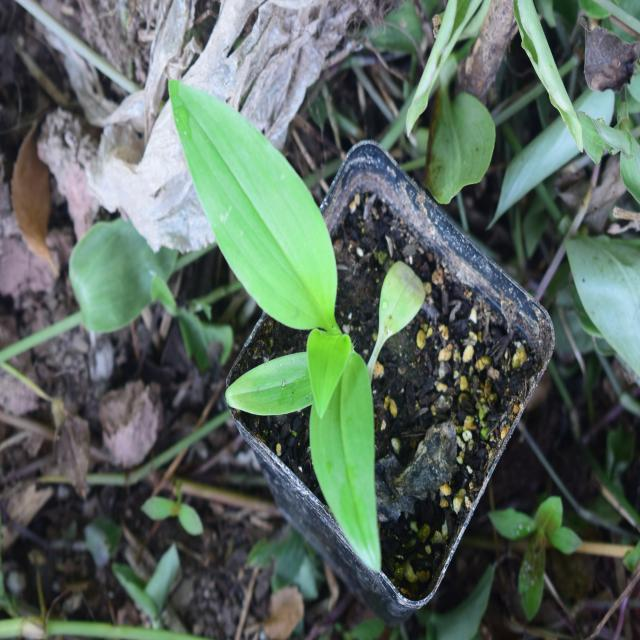Common Dayflower: (157, 68, 393, 581)
